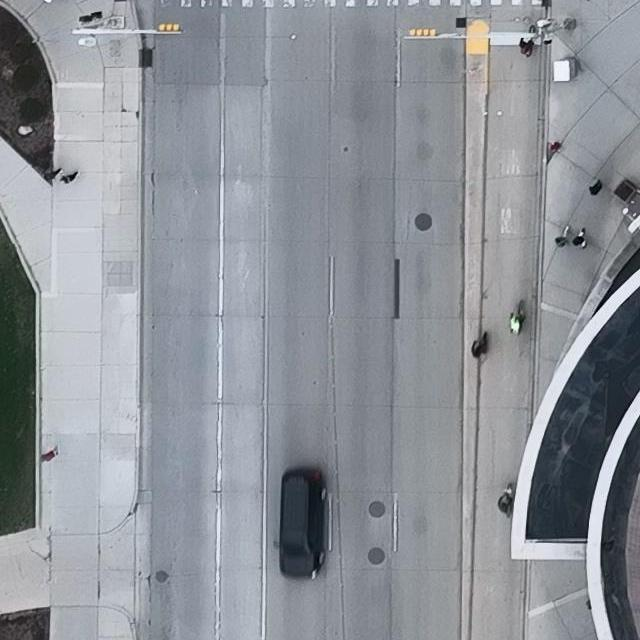car: (274, 467, 326, 579)
